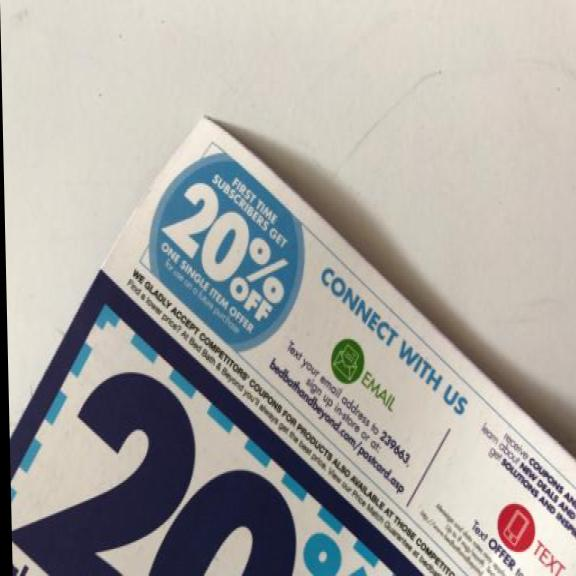Kertas: (2, 107, 576, 576)
